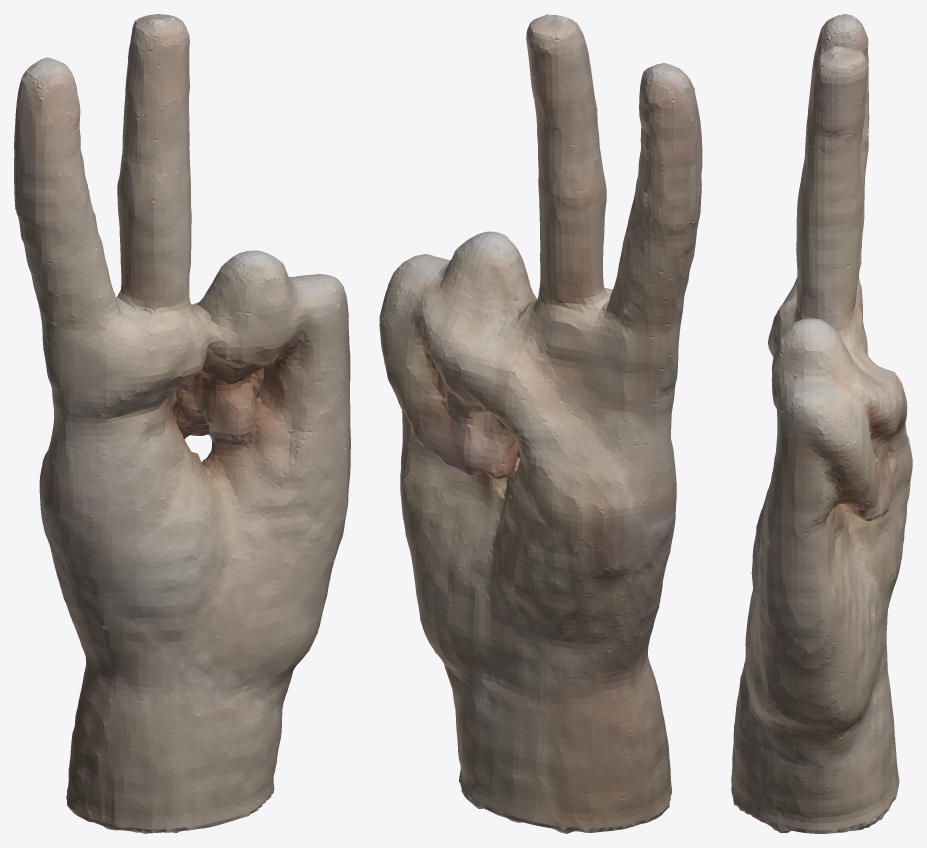
File: ASL2.glb
The picture shows the model from 3 angles, left to right: view 1: azimuth 30°, elevation 25°; view 2: azimuth 150°, elevation 25°; view 3: azimuth 270°, elevation 25°; orthographic projection. The views are drawn at different scales.
Parts seen in each view (by area): view 1: world; view 2: world; view 3: world.
Boxes of the visible parts, <box> form: world: <box>14,14,350,833</box>; world: <box>379,14,702,833</box>; world: <box>731,14,912,833</box>.
Size of the model in its own units: 0.8544 by 2.01 by 0.4435.
